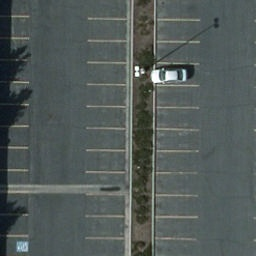car: (150, 69, 188, 84)
